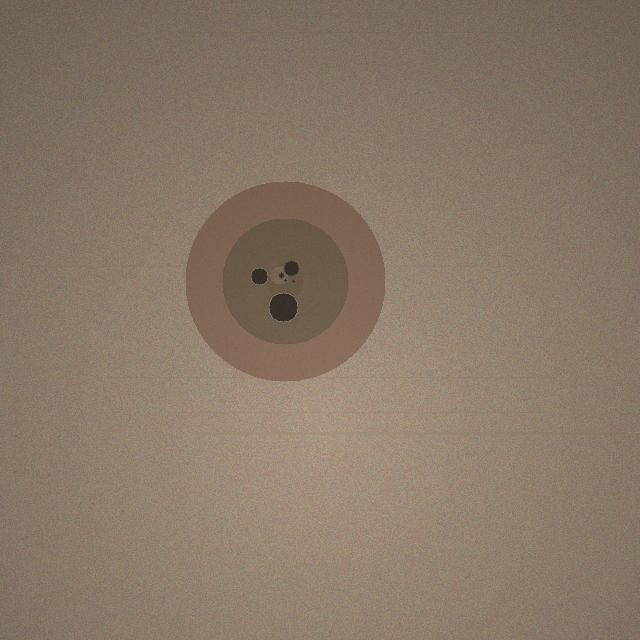shrinkage: (185, 181, 385, 381)
